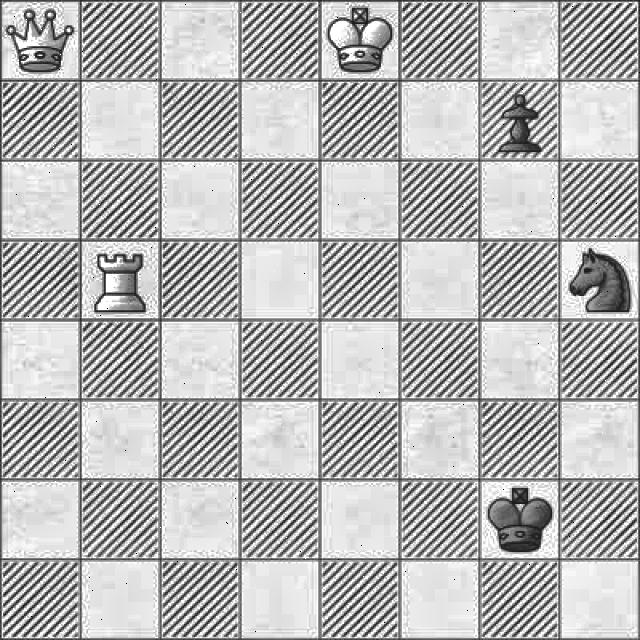Black Knight: (564, 241, 640, 315)
black king: (480, 484, 558, 558)
black pawn: (488, 86, 550, 156)
white king: (325, 4, 397, 78)
white queen: (3, 4, 75, 76)
white rook: (87, 242, 157, 316)
